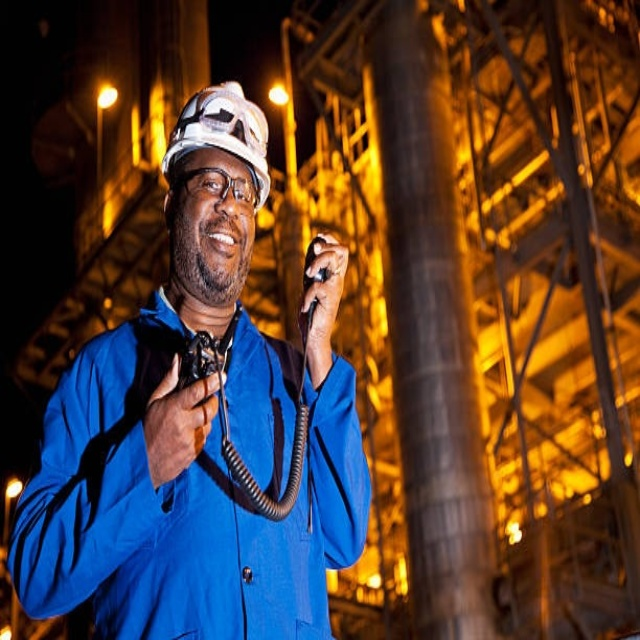Gafas: (174, 162, 259, 215)
Sin_guantes: (140, 348, 226, 489), (297, 232, 348, 342)
Sin_mascara: (201, 221, 242, 284)
